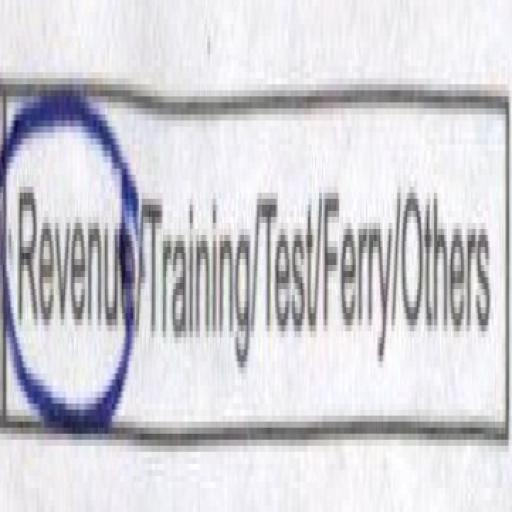check: (2, 13, 142, 512)
